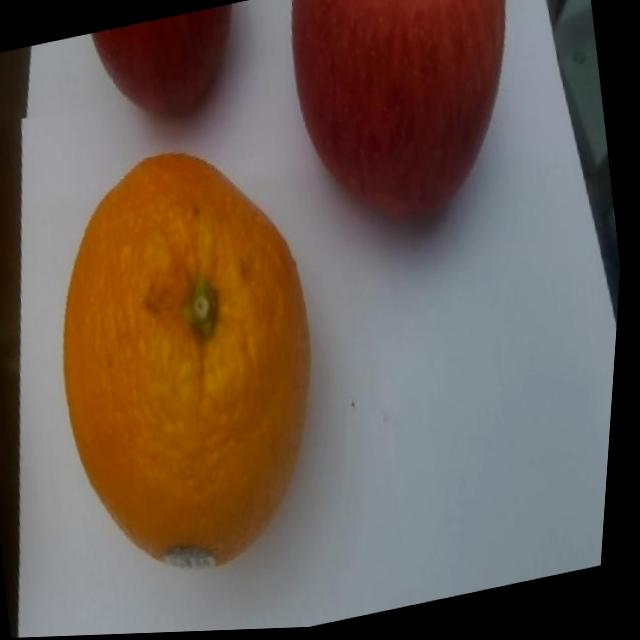Apple: (271, 0, 542, 249), (84, 3, 249, 134)
Orange: (20, 125, 362, 597)
